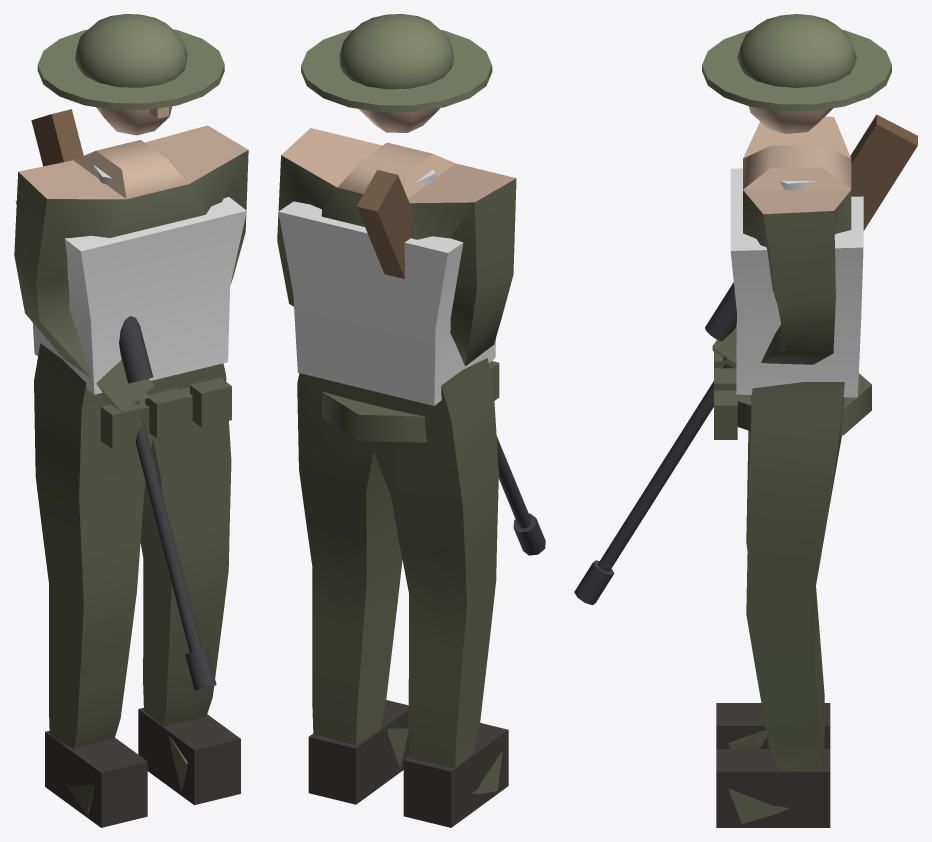
Rendered from sniper_lod1.glb.
The picture shows the model from 3 angles, left to right: view 1: azimuth 30°, elevation 25°; view 2: azimuth 150°, elevation 25°; view 3: azimuth 270°, elevation 25°; orthographic projection. The views are drawn at different scales.
Visible parts, largest first — view 1: body; view 2: body; view 3: body.
Part boxes in pixels (x1,y1,x2,y2): body: (14,14,248,827); body: (277,14,545,827); body: (574,14,917,827).
Size of the model in its own units: 0.518 by 1.8 by 0.7239.
